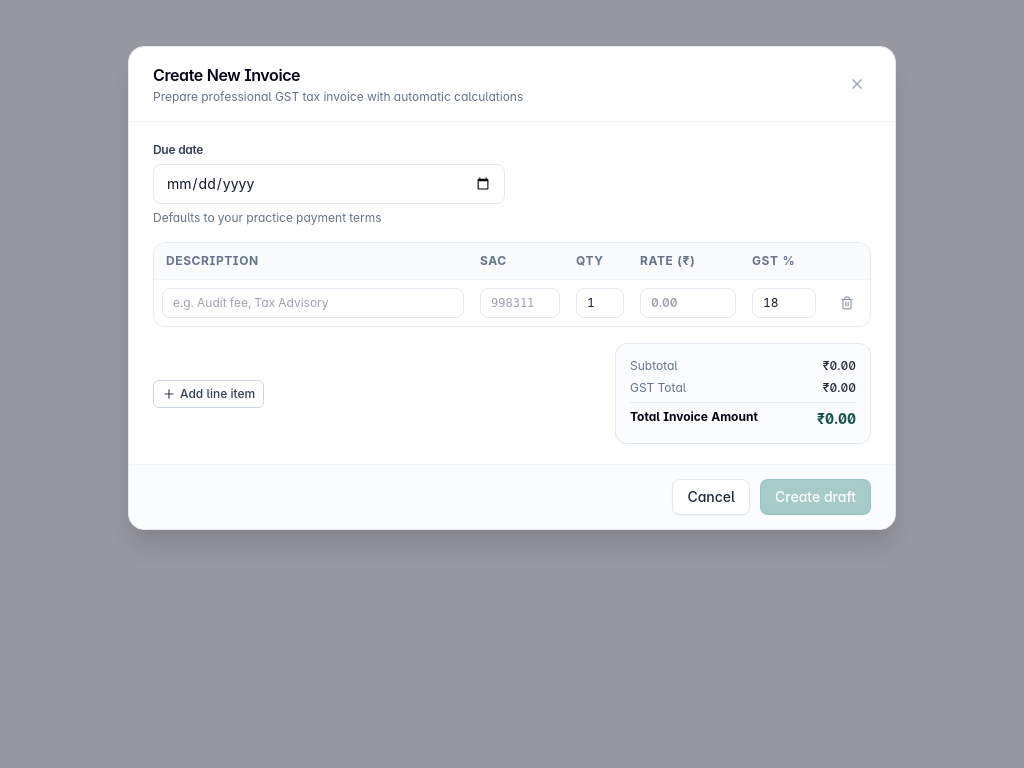
Test: Invoices › shows live totals in the invoice form
Step 1. Type "Audit fee" into the field named "Description" → (313, 303), box [162, 288, 464, 318]
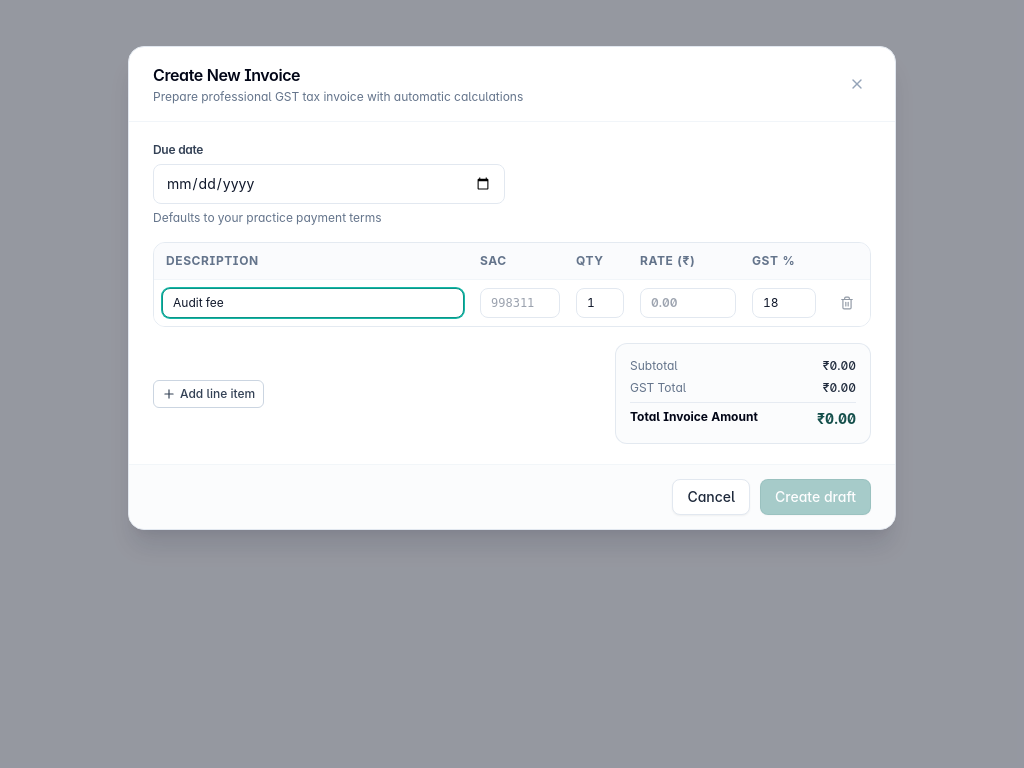
Step 2. Type "1000" into the number field named "Rate" → (688, 303), box [640, 288, 736, 318]
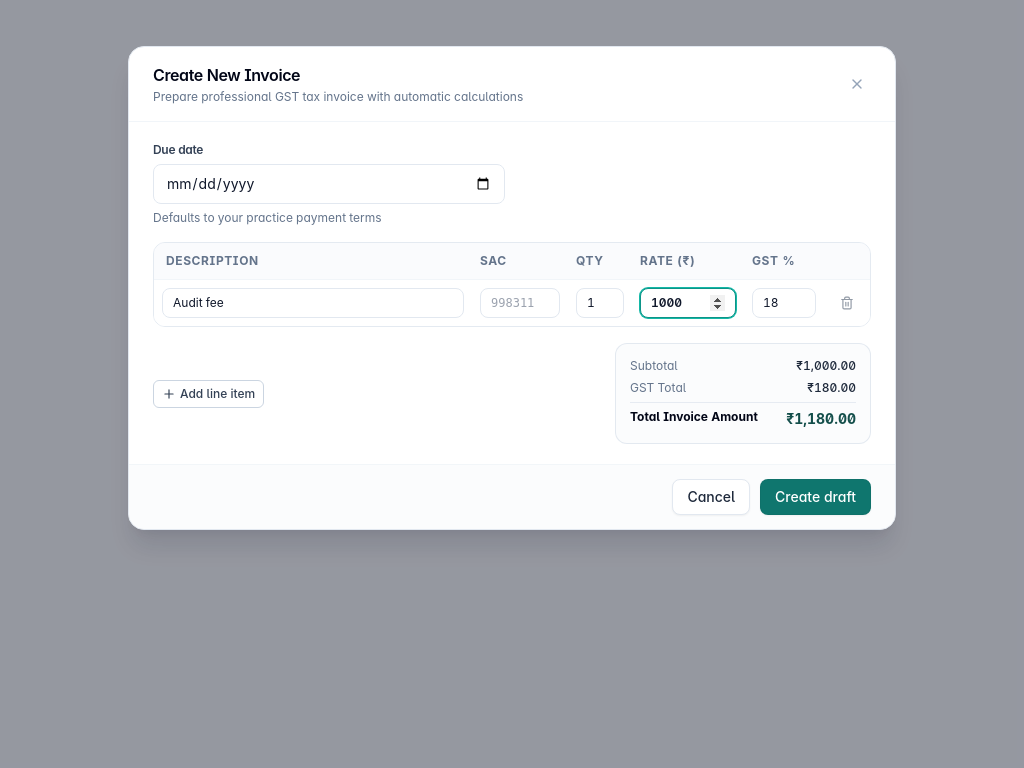
Check: the text "₹1,180.00" is shown, box [786, 409, 856, 429]
